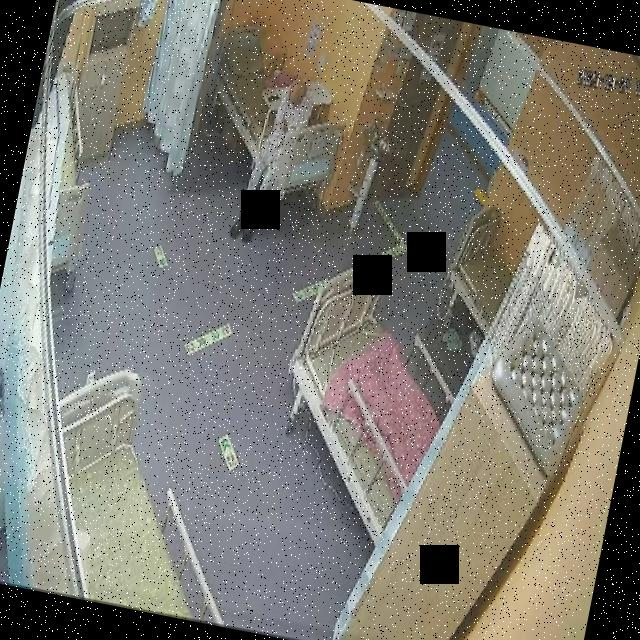bed: (22, 356, 268, 628), (265, 252, 468, 548), (193, 22, 360, 208), (437, 202, 525, 340)
patient: (226, 73, 322, 252)
sit: (226, 73, 322, 252)
